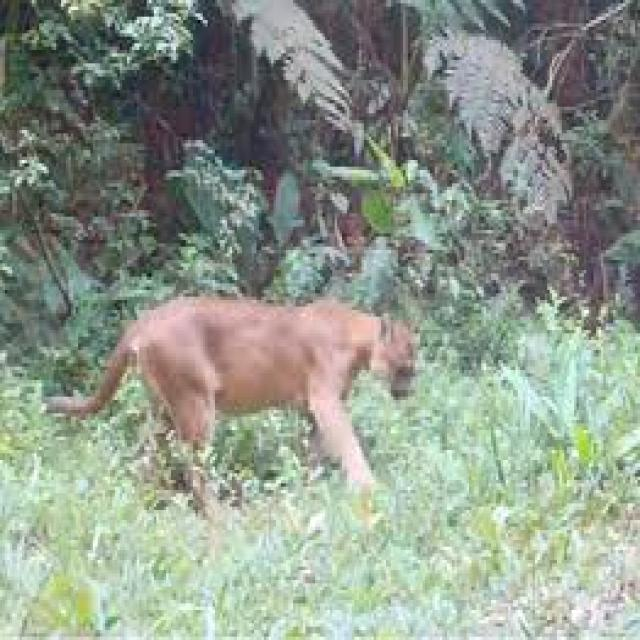Jaguar: (44, 290, 423, 517)
